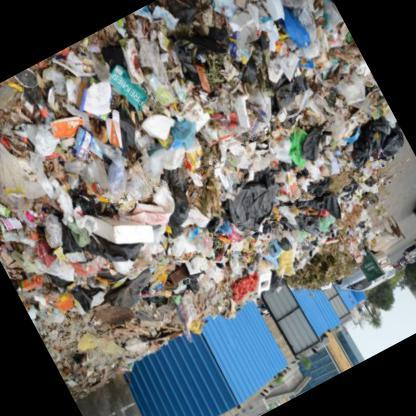Garbage: (0, 0, 401, 337), (0, 27, 366, 395), (87, 0, 383, 298), (0, 67, 190, 318)
